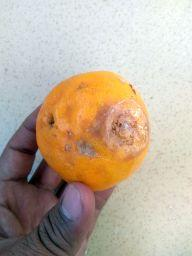Unripe: (35, 71, 152, 193)
